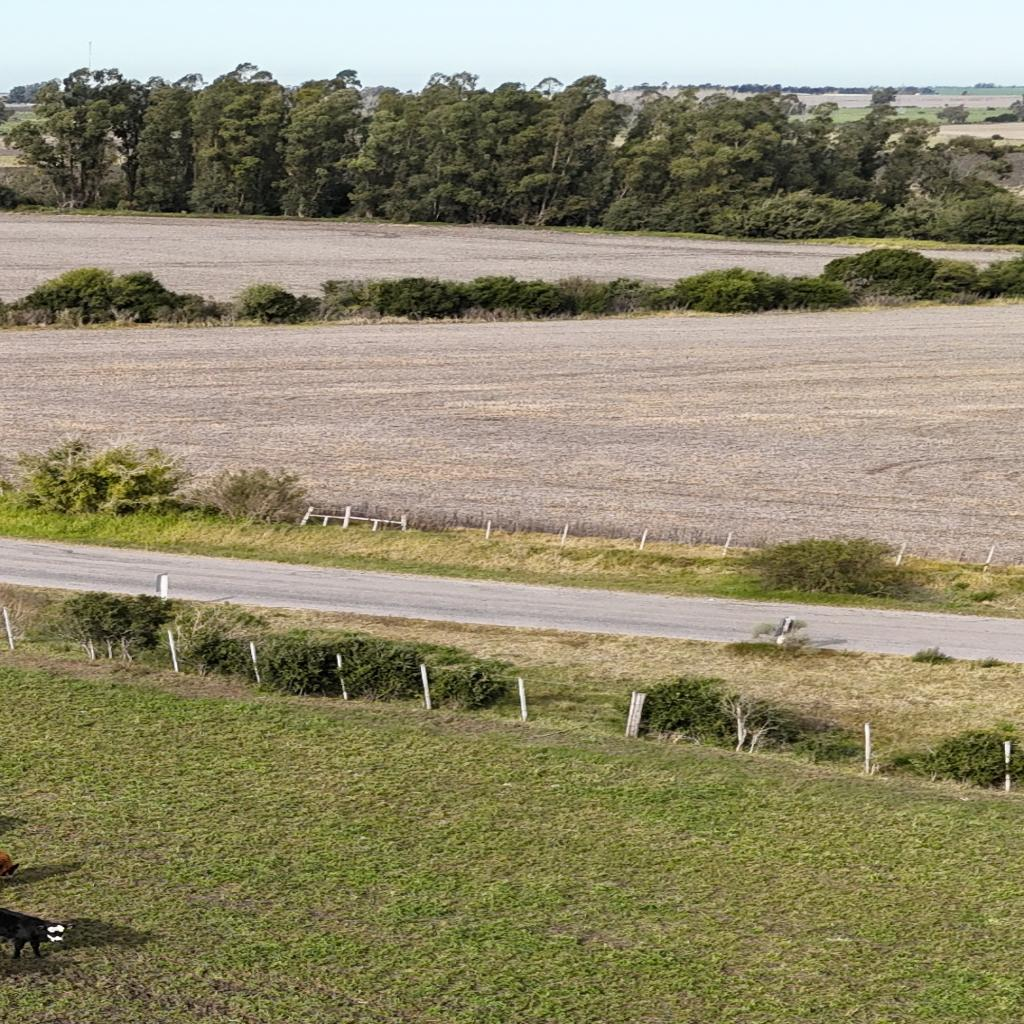cow: (0, 902, 75, 960)
